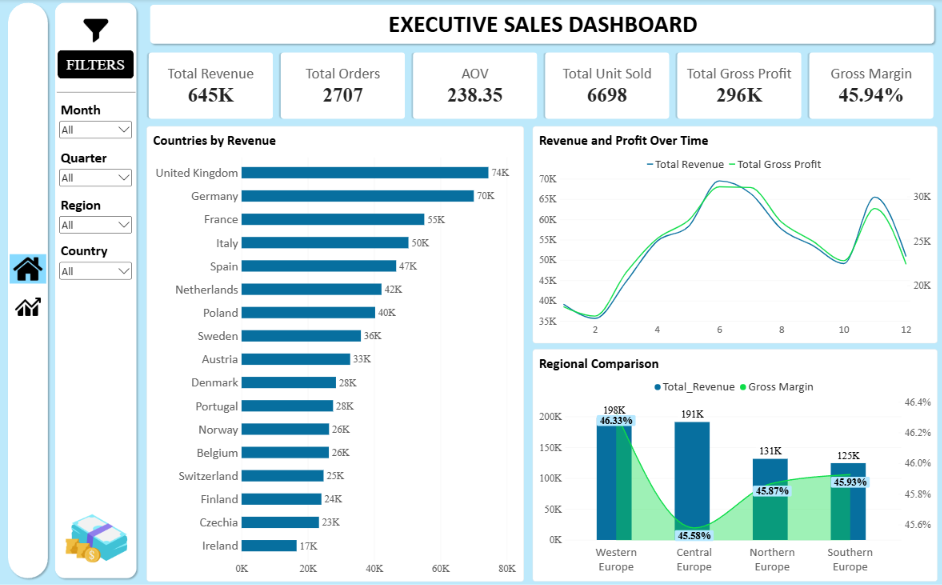

Layout of this report page (visuals, bound fields, positions):
{"tool":"powerbi","page":{"name":"Home","canvas":[2500,1550],"ordinal":0},"visuals":[{"type":"shape","box":[142,0,233.2,1538.4],"z":0},{"type":"slicer","fields":{"Values":["Date_Table.Quarter"]},"box":[158.1,396.7,201,112.6],"z":0,"group":"g1"},{"type":"shape","box":[18.8,0,123.3,1538.4],"z":1000},{"type":"slicer","fields":{"Values":["Date_Table.Month_Name"]},"box":[158.1,270.7,201,112.6],"z":1000,"group":"g1"},{"type":"cardVisual","fields":{"Data":["ALL Measures.Total_Revenue","ALL Measures.Total Orders","ALL Measures.AOV","ALL Measures.Total Unit Sold","ALL Measures.Total Gross Profit","ALL Measures.Gross Margin"]},"box":[394,134,2087.8,187.6],"z":2000},{"type":"slicer","fields":{"Values":["SalesDataTable.Country"]},"box":[158.1,643.2,201,107.2],"z":2000,"group":"g1"},{"type":"lineChart","title":"Revenue and Profit Over Time","fields":{"Category":["Date_Table.Month_Number"],"Y":["ALL Measures.Total_Revenue"],"Y2":["ALL Measures.Total Gross Profit"]},"box":[1412.4,335,1069.4,573.5],"z":3000},{"type":"slicer","fields":{"Values":["SalesDataTable.Region"]},"box":[158.1,522.6,201,107.2],"z":3000,"group":"g1"},{"type":"image","box":[32.2,672.7,96.5,77.7],"z":4000},{"type":"clusteredBarChart","title":"Countries by Revenue","fields":{"Category":["SalesDataTable.Country"],"Y":["ALL Measures.Total_Revenue"]},"box":[394,335,997,1203.4],"z":5000},{"type":"lineClusteredColumnComboChart","title":"Regional Comparison","fields":{"Category":["SalesDataTable.Region"],"Y":["ALL Measures.Total_Revenue"],"Y2":["ALL Measures.Gross Margin"]},"box":[1412.4,924.6,1069.4,613.7],"z":6000},{"type":"shape","box":[155.4,238.5,209,16.1],"z":7000},{"type":"image","box":[32.2,769.2,96.5,77.7],"z":8000},{"type":"image","box":[211.7,42.9,96.5,77.7],"z":9000},{"type":"shape","box":[158.1,134,201,75],"z":10000},{"type":"group","id":"g1","title":"Group 1","box":[158.1,270.7,201,479.7],"z":11000},{"type":"image","box":[168.8,1329.3,184.9,190.3],"z":12000},{"type":"shape","box":[393.6,5.3,2089.4,121.5],"z":13000}]}

Visuals, with their boxes in screenshot pixels (x1, y1, x2, y2), scaled from the page's 2500x1550 canvas onto the 942x585 screenshot:
shape: x1=54 y1=0 x2=141 y2=581
slicer - Date_Table.Quarter: x1=60 y1=150 x2=135 y2=192
shape: x1=7 y1=0 x2=54 y2=581
slicer - Date_Table.Month_Name: x1=60 y1=102 x2=135 y2=145
cardVisual - ALL Measures.Total_Revenue x ALL Measures.Total Orders: x1=148 y1=51 x2=935 y2=121
slicer - SalesDataTable.Country: x1=60 y1=243 x2=135 y2=283
"Revenue and Profit Over Time" lineChart: x1=532 y1=126 x2=935 y2=343
slicer - SalesDataTable.Region: x1=60 y1=197 x2=135 y2=238
image: x1=12 y1=254 x2=48 y2=283
"Countries by Revenue" clusteredBarChart: x1=148 y1=126 x2=524 y2=581
"Regional Comparison" lineClusteredColumnComboChart: x1=532 y1=349 x2=935 y2=581
shape: x1=59 y1=90 x2=137 y2=96
image: x1=12 y1=290 x2=48 y2=320
image: x1=80 y1=16 x2=116 y2=46
shape: x1=60 y1=51 x2=135 y2=79
"Group 1" group: x1=60 y1=102 x2=135 y2=283
image: x1=64 y1=502 x2=133 y2=574
shape: x1=148 y1=2 x2=936 y2=48
